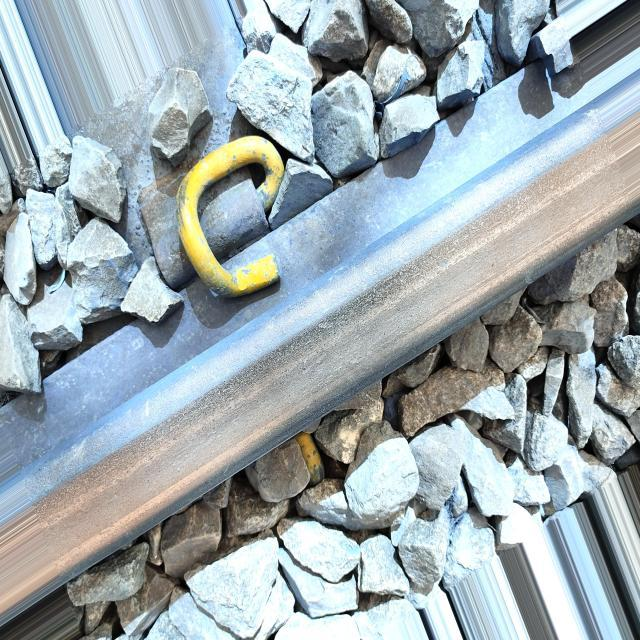Good Fasteners: (127, 129, 304, 369), (293, 431, 324, 486)
